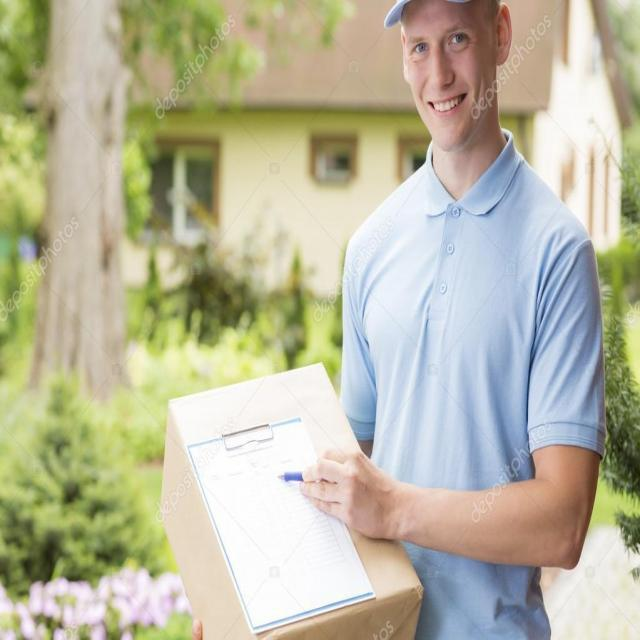box: (148, 354, 428, 640)
